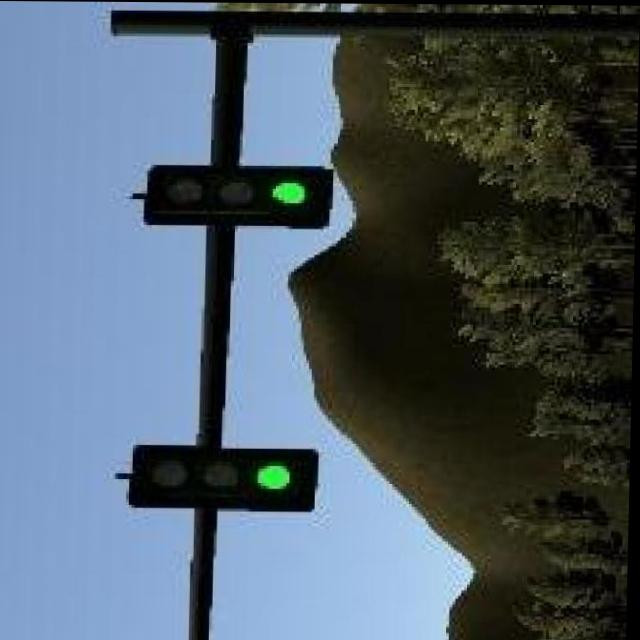green light: (131, 446, 318, 510), (142, 167, 335, 222)
